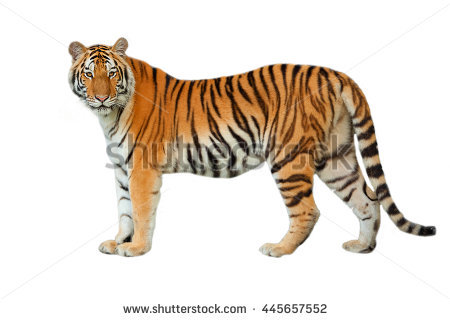tiger: (65, 41, 439, 261)
